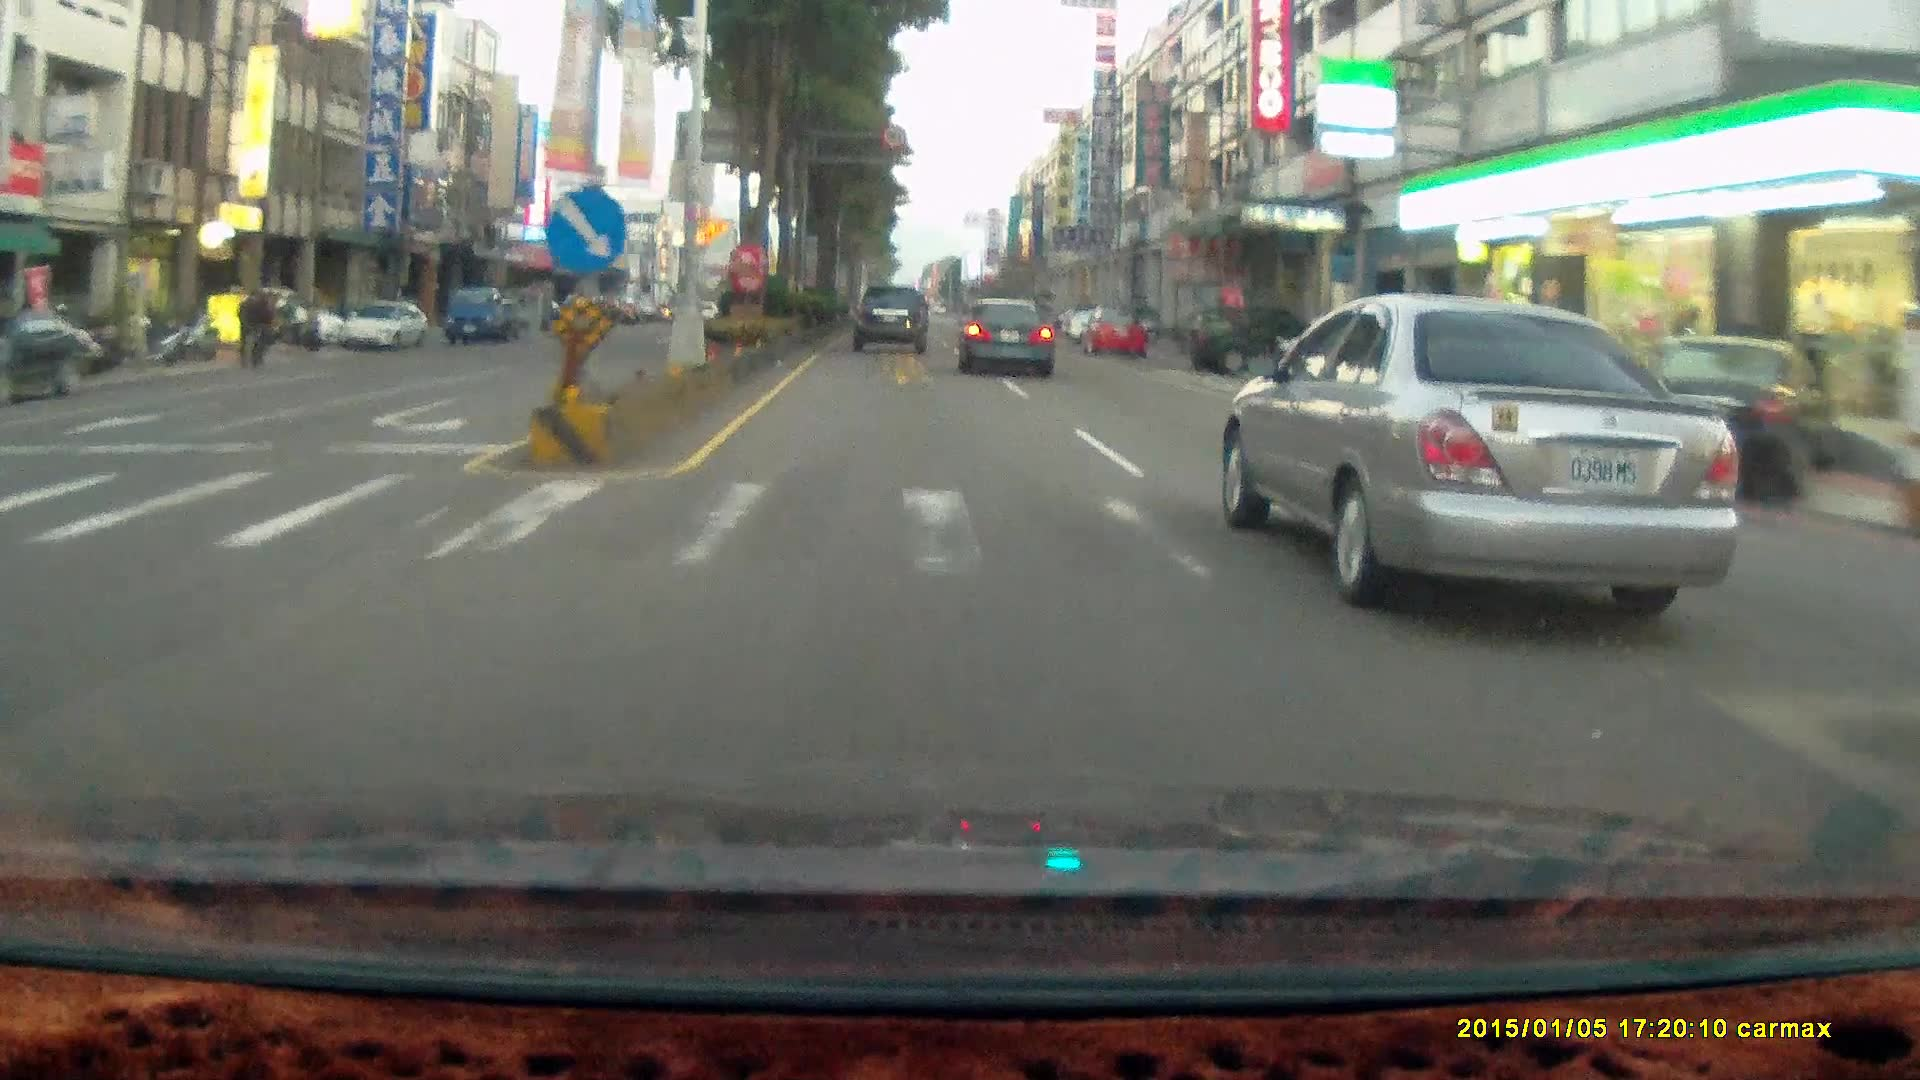pedestrian: (243, 288, 273, 367), (246, 289, 275, 367)
vehicle: (1227, 286, 1741, 613), (1638, 330, 1834, 497), (1660, 329, 1835, 512), (1302, 316, 1432, 417), (1191, 309, 1321, 378), (1184, 306, 1314, 374), (957, 297, 1057, 377), (0, 314, 89, 405), (958, 297, 1053, 374), (853, 285, 932, 356), (447, 291, 536, 354), (852, 282, 929, 352), (336, 300, 432, 354), (338, 301, 428, 350), (443, 284, 519, 342), (1085, 305, 1150, 360), (1078, 304, 1146, 355), (559, 292, 609, 333)
